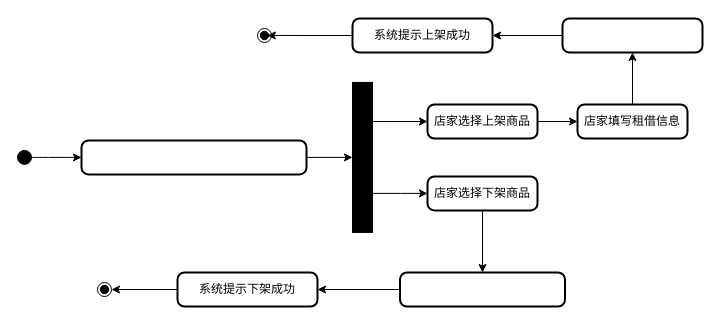
Some shapes in this 721 by 324 pixel diagram are drawn without their labels. The shapes that lost their labels are listed below. From the top down, each one's centre as x and y in pixels, then its label:
At pixel 632 35: "系统将商品加入租借列表".
At pixel 193 157: "店家登陆并进入商品界面".
At pixel 482 289: "系统将商品从租借列表中删除".
